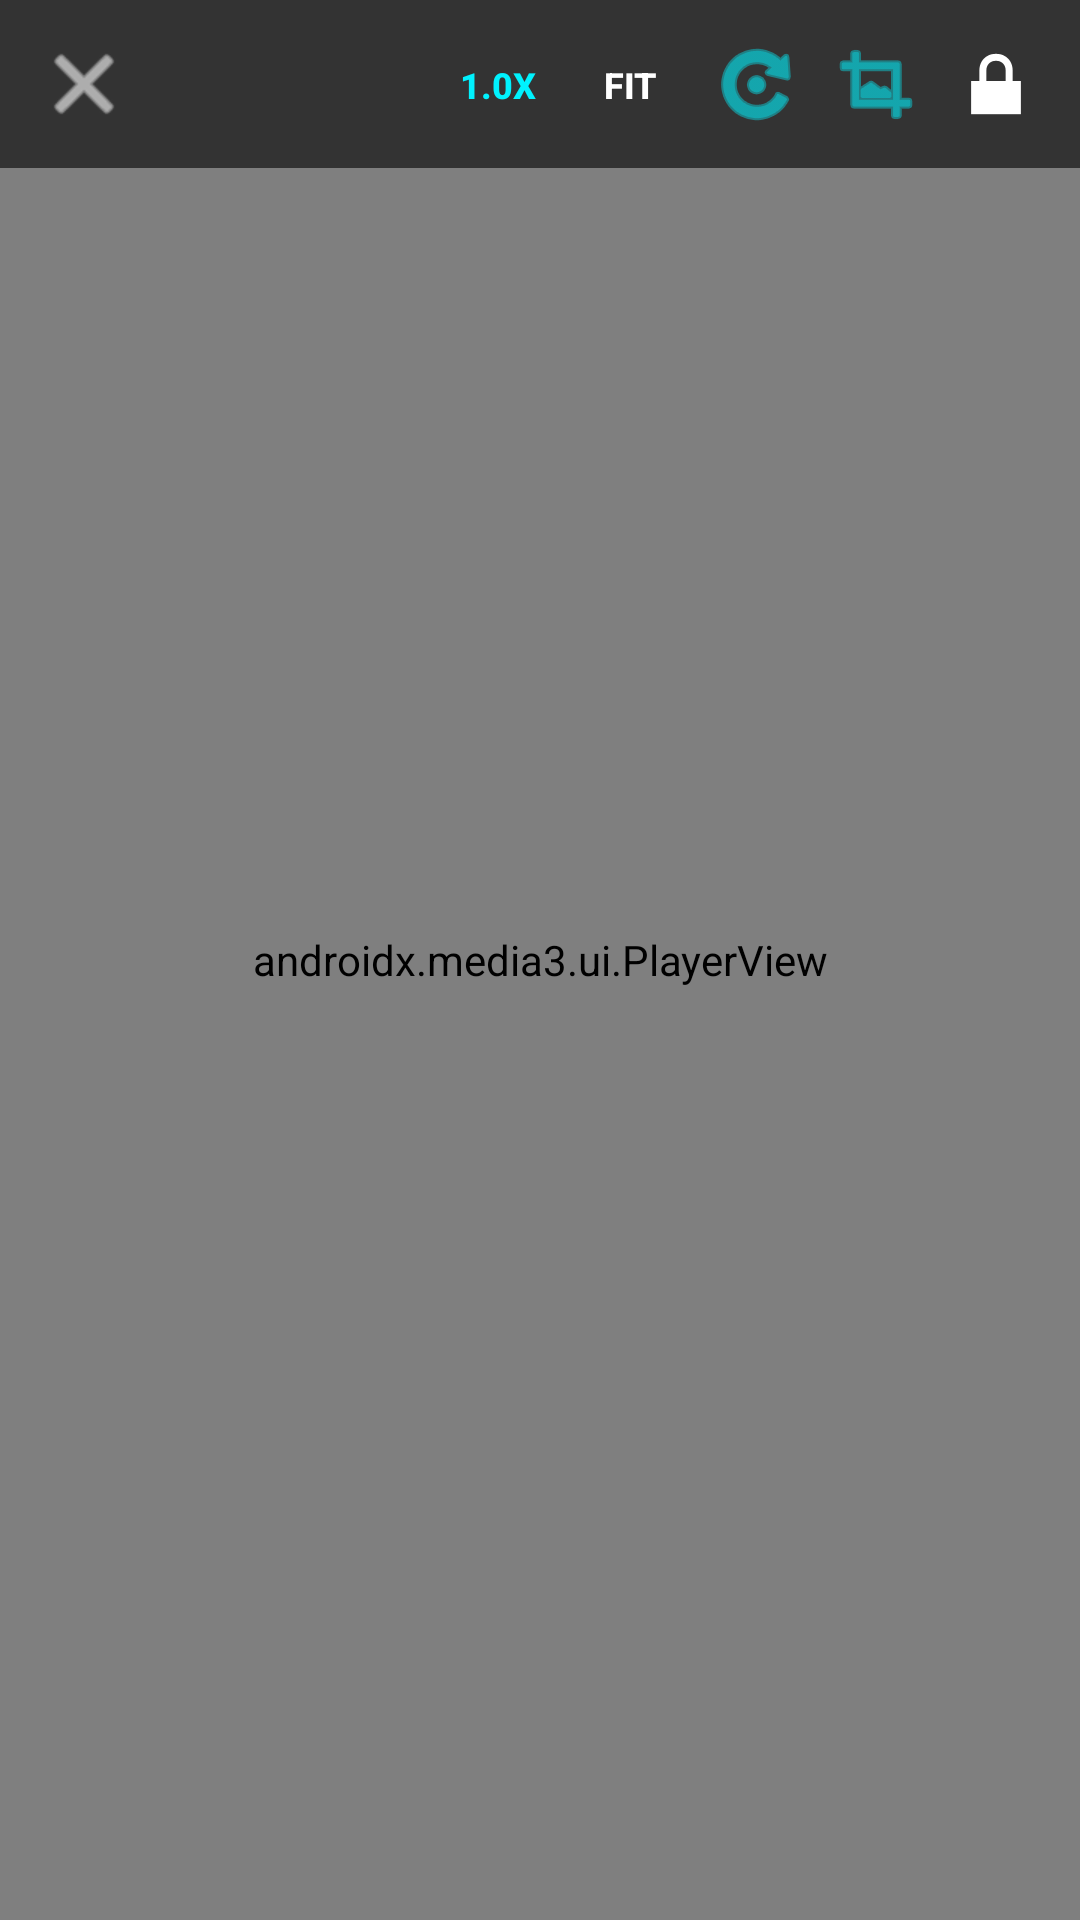

Where to tap for icons on this 1080px x 1920px app screen, as (x=x, y=y):
Close Player: (x=84, y=84)
Lock Screen: (x=996, y=84)
Rotate Screen Orientation: (x=756, y=84)
